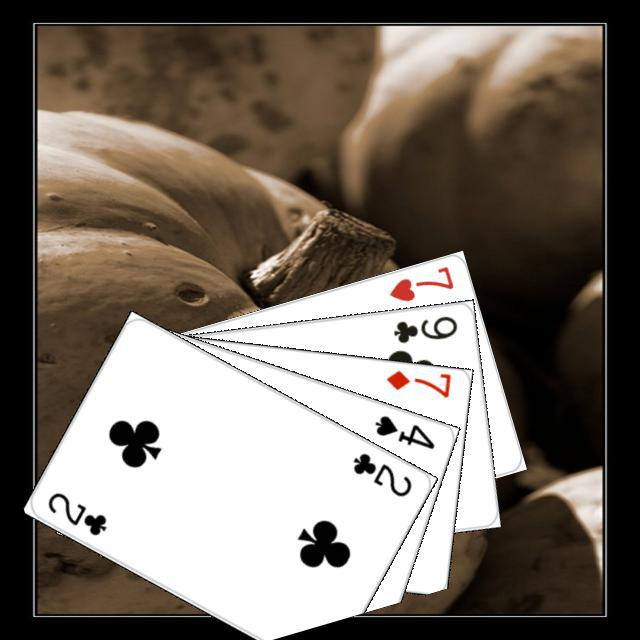2c: (348, 447, 414, 499), (42, 487, 109, 538)
4s: (370, 410, 437, 451)
7d: (381, 365, 452, 399)
7h: (384, 261, 456, 303)
9c: (389, 311, 459, 345)
